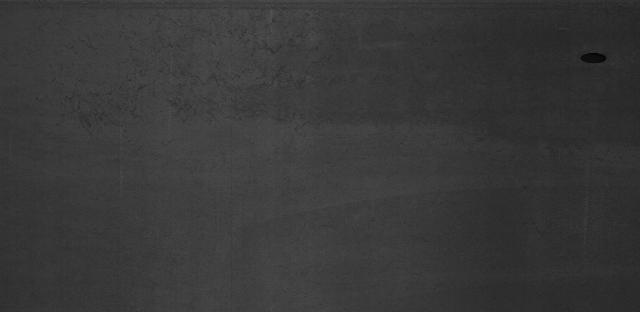punching_hole: (577, 50, 613, 68)
silk_spot: (42, 8, 387, 129)
